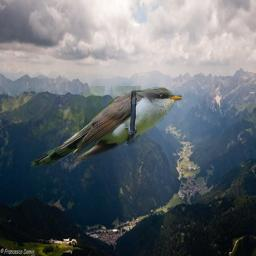Cuckoo: (28, 86, 182, 167)
